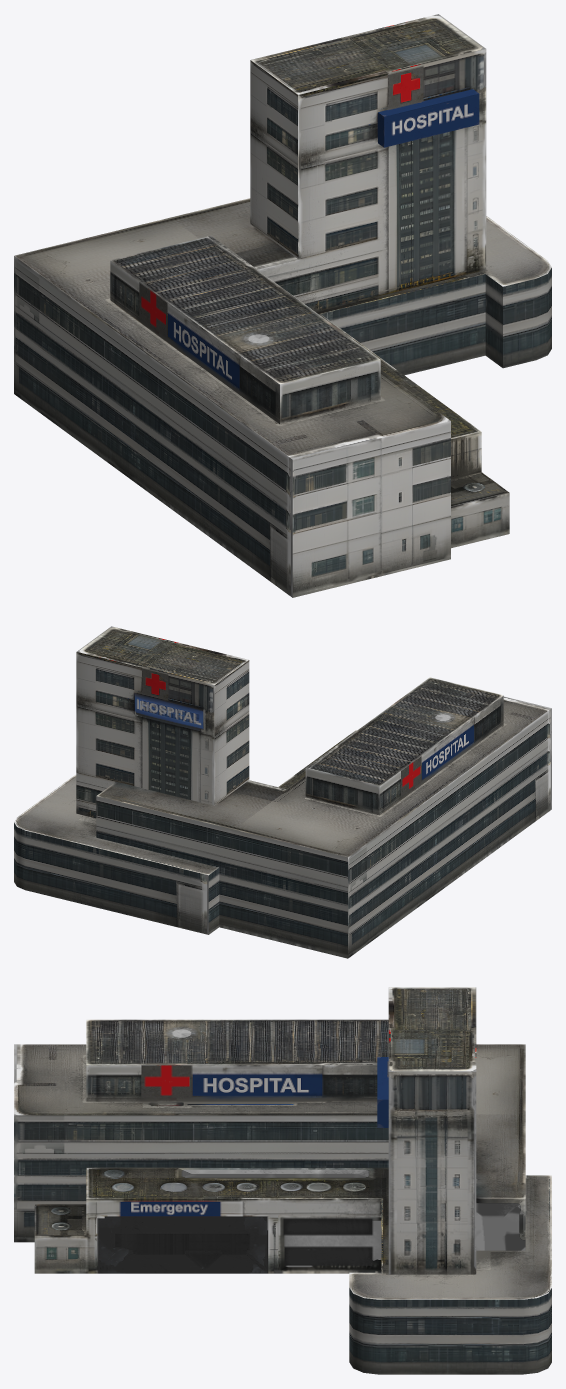
The model's file is CP_Hospital.fbx.
The picture shows the model from 3 angles, top to bottom: view 1: azimuth 30°, elevation 25°; view 2: azimuth 150°, elevation 25°; view 3: azimuth 270°, elevation 25°; orthographic projection. The views are drawn at different scales.
Parts seen in each view (by area): view 1: CP_Hospital; view 2: CP_Hospital; view 3: CP_Hospital.
Part boxes in pixels (<box>): CP_Hospital: <box>14,14,551,597</box>; CP_Hospital: <box>14,626,551,958</box>; CP_Hospital: <box>14,987,551,1374</box>.
Size of the model in its own units: 4908 by 3130 by 5493.
